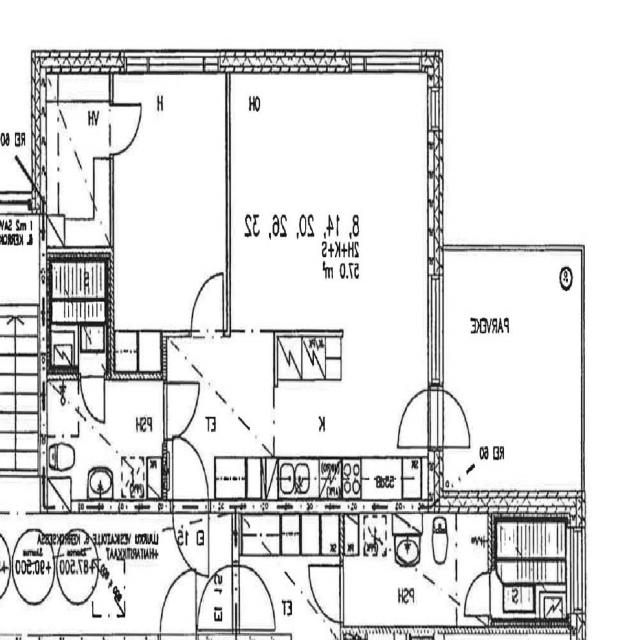door: (173, 498, 209, 574), (173, 436, 209, 511), (396, 390, 444, 446), (428, 390, 476, 446), (163, 382, 200, 439), (192, 274, 224, 336), (110, 104, 142, 154), (81, 366, 105, 421)
